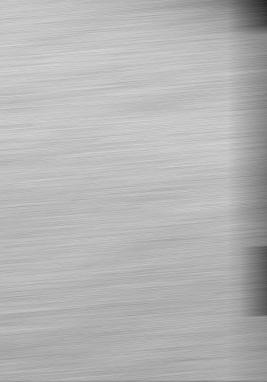Airbag: (0, 1, 267, 381), (251, 0, 267, 381)
